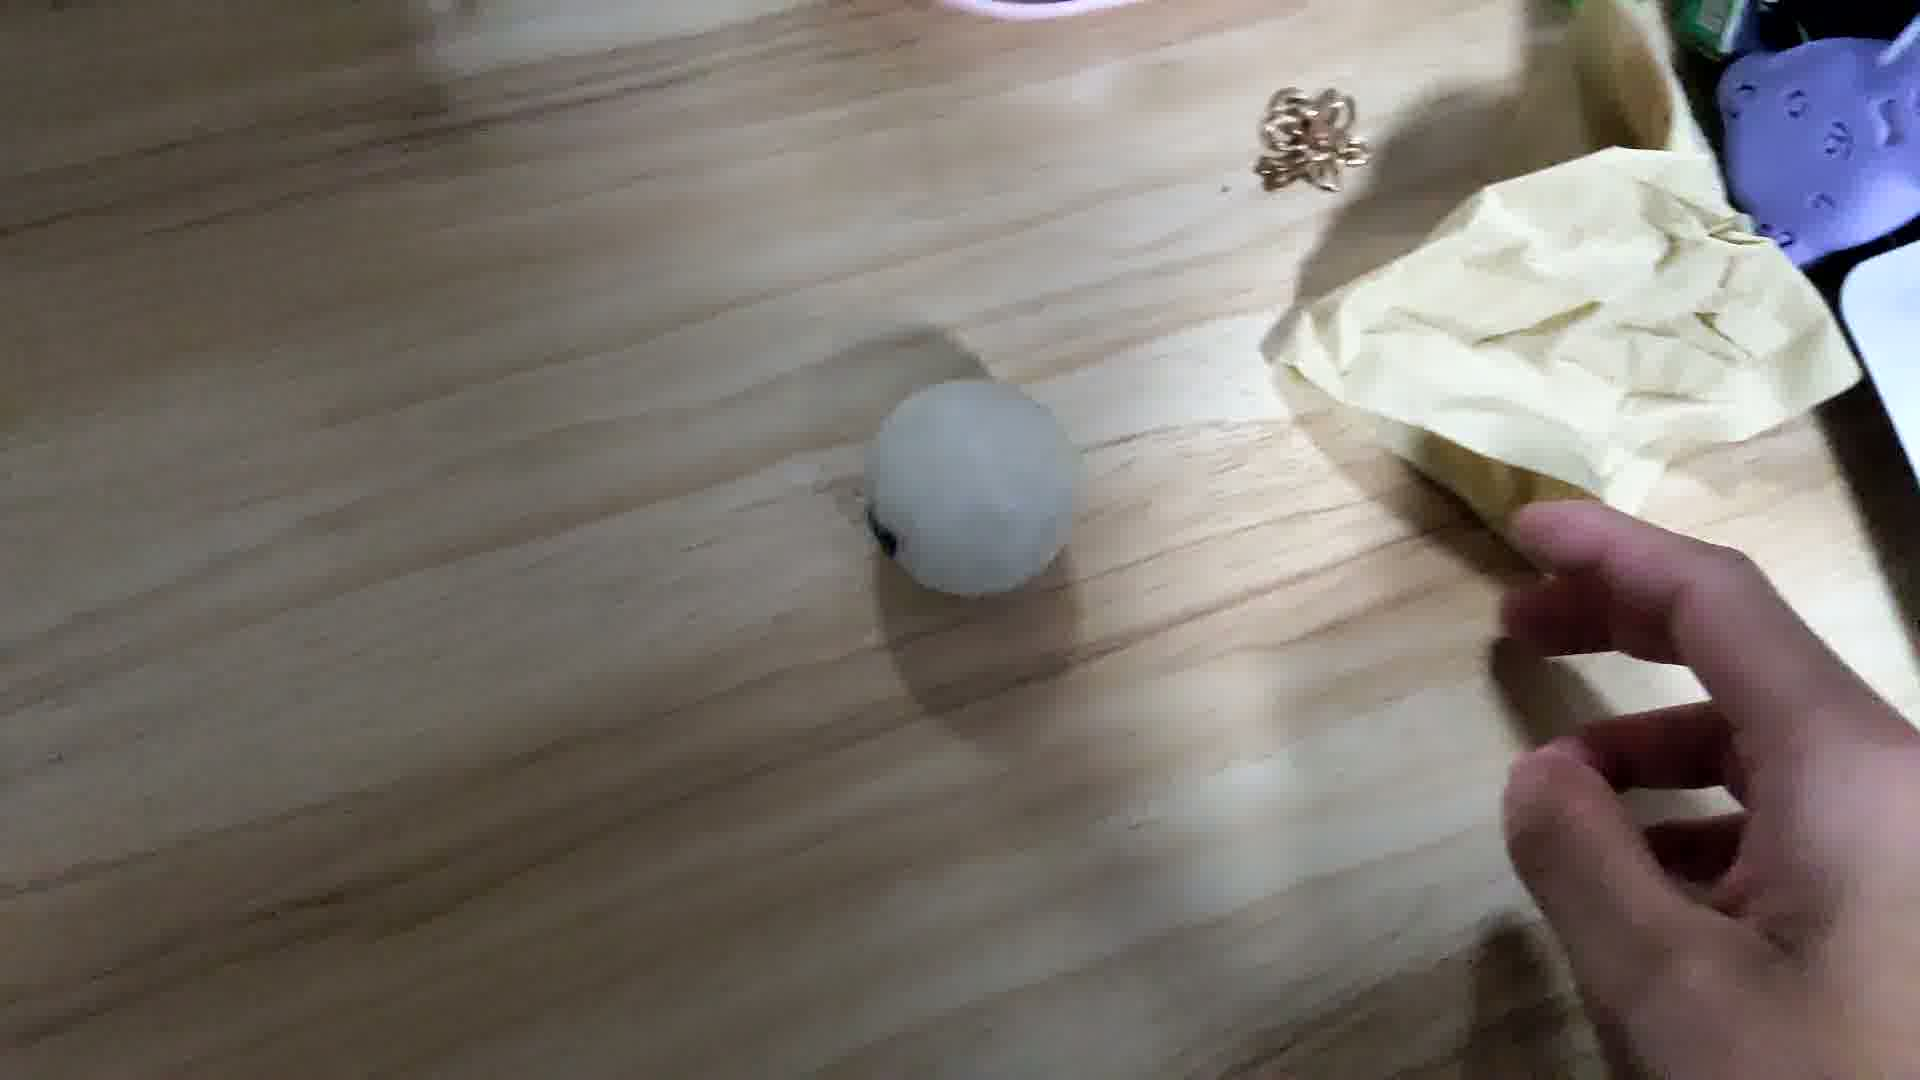Ball: (866, 378, 1083, 597)
